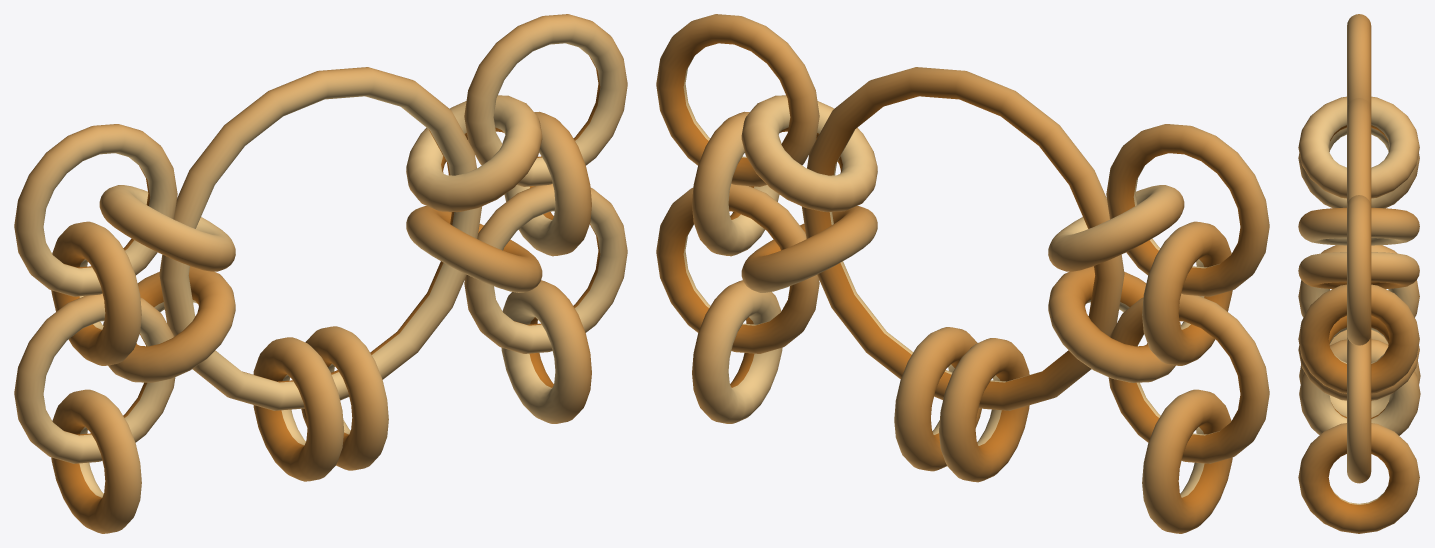
The model's file is hashigo_n_b.fbx.
3 views of the same model, side by side, from view 1: azimuth 30°, elevation 25°; view 2: azimuth 150°, elevation 25°; view 3: azimuth 270°, elevation 25° (orthographic). The views are drawn at different scales.
Parts seen in each view (by area): view 1: m1; view 2: m1; view 3: m1.
Boxes of the visible parts, bbox=[...] form: m1: bbox=[14, 14, 627, 533]; m1: bbox=[656, 14, 1269, 533]; m1: bbox=[1298, 14, 1420, 533].
Bounding box in the file's own units: 19.09 × 12.02 × 4.02.
1 material, 1 textured.
